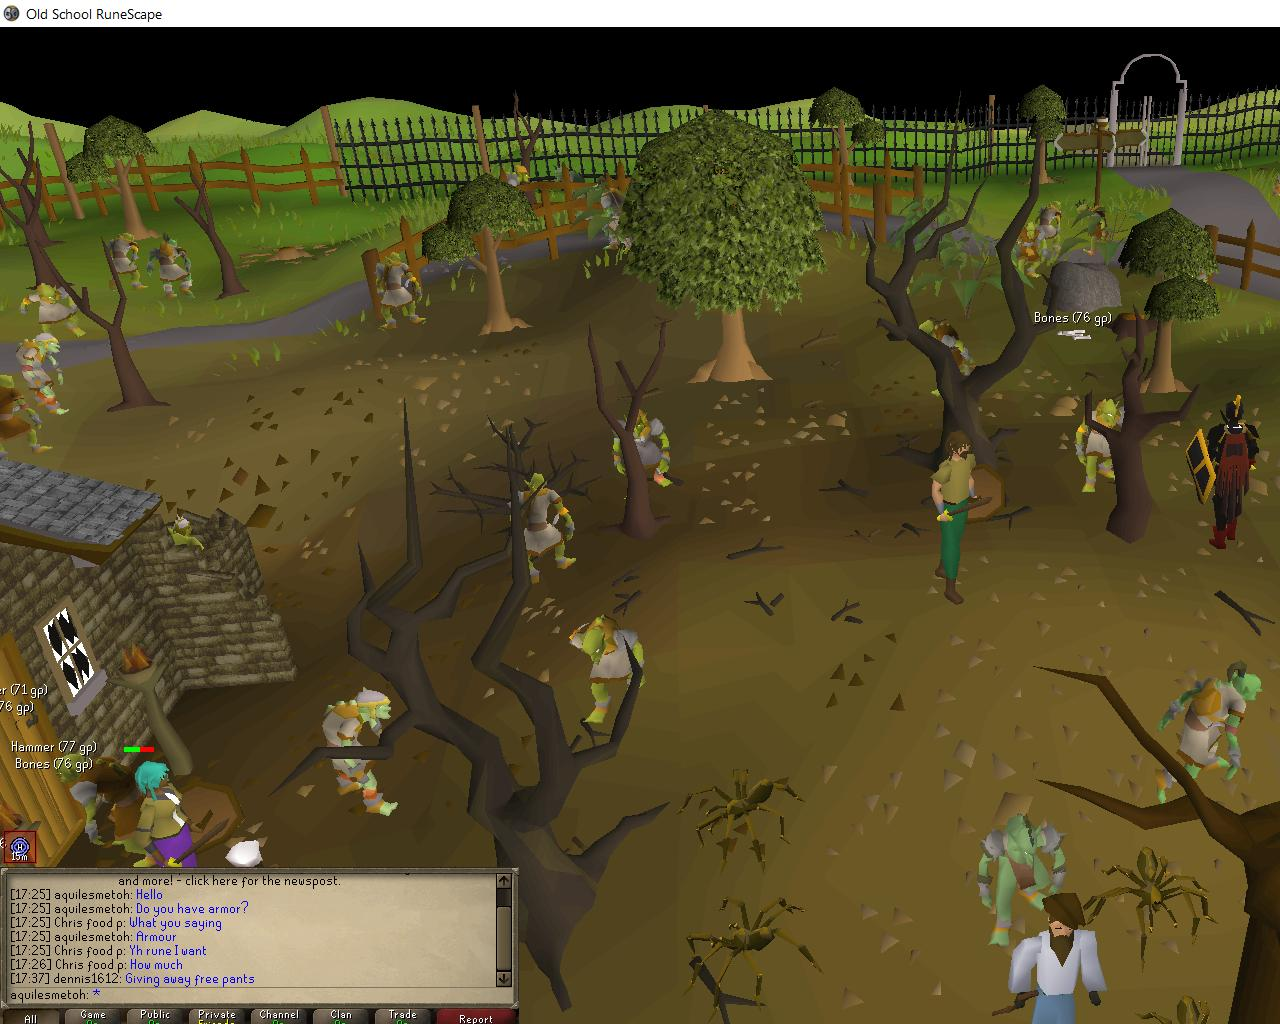Goblin: (50, 745, 183, 871), (1149, 658, 1259, 810), (311, 684, 408, 825), (975, 814, 1073, 950), (556, 611, 655, 727), (502, 473, 583, 587), (1065, 397, 1145, 499), (609, 410, 683, 498), (911, 316, 984, 403), (11, 330, 82, 418), (17, 279, 92, 345), (578, 184, 644, 257), (369, 249, 425, 333), (1, 373, 57, 458), (147, 234, 200, 303), (484, 163, 536, 230), (102, 228, 145, 296), (1074, 200, 1122, 258), (1013, 219, 1053, 280), (1031, 200, 1067, 254)
